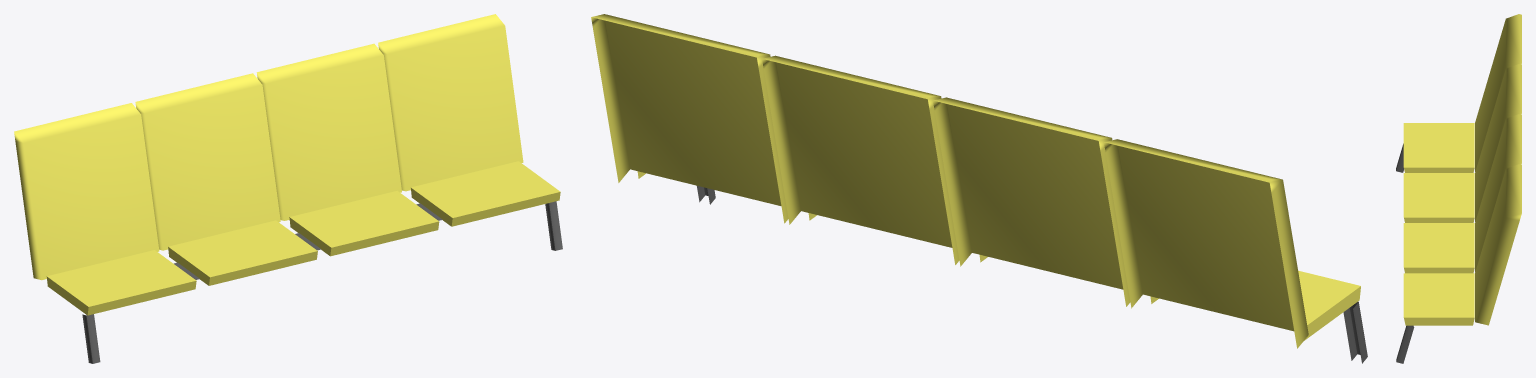
File: SM_Hub_Bench_01.fbx
3 renders of one model, left to right at view 1: azimuth 30°, elevation 25°; view 2: azimuth 150°, elevation 25°; view 3: azimuth 270°, elevation 25°, orthographic. The views are drawn at different scales.
Visible parts, largest first — view 1: SM_Hub_Bench_01; view 2: SM_Hub_Bench_01; view 3: SM_Hub_Bench_01.
Part boxes in pixels (x1,y1,x2,y2): SM_Hub_Bench_01: [14, 14, 562, 363]; SM_Hub_Bench_01: [591, 14, 1367, 363]; SM_Hub_Bench_01: [1396, 14, 1521, 363].
Bounding box in the file's own units: 15.02 × 5.42 × 4.02.
